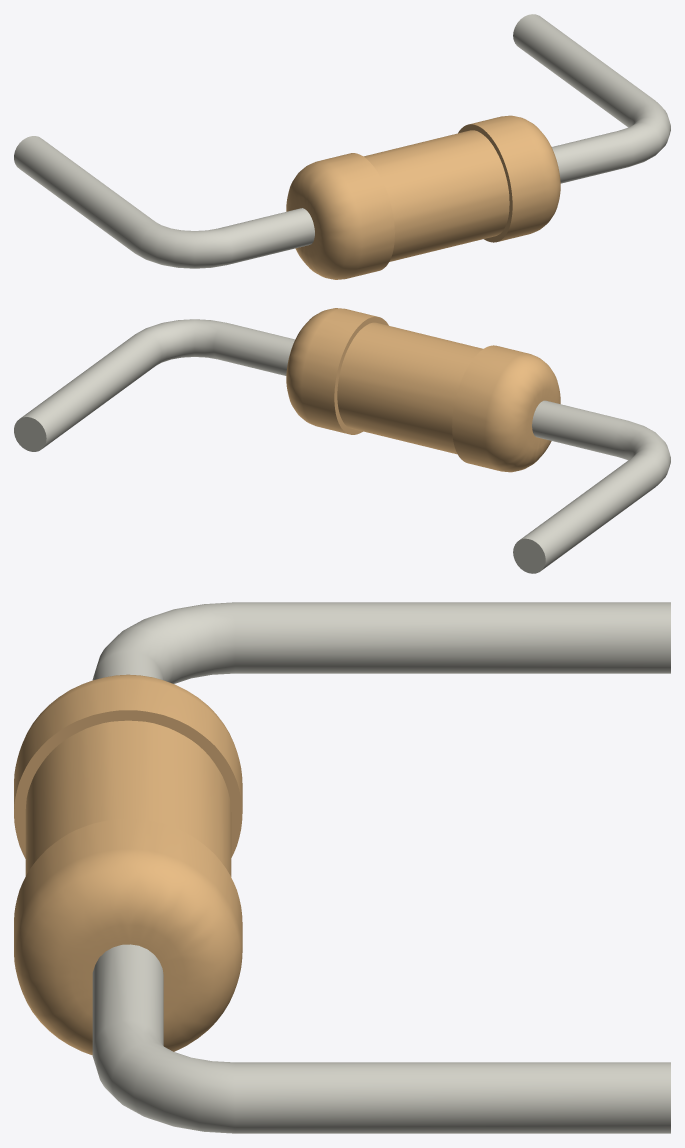
Rendered from r-axial-din0204-l3.6-d1.6-p7.62-h.glb.
3 views of the same model, one above another, from view 1: azimuth 30°, elevation 25°; view 2: azimuth 150°, elevation 25°; view 3: azimuth 270°, elevation 25° (orthographic). The views are drawn at different scales.
Parts seen in each view (by area): view 1: RES-THT-01, PIN-01; view 2: RES-THT-01, PIN-01; view 3: PIN-01, RES-THT-01.
Boxes of the visible parts, x1,y1,x2,y2 form: RES-THT-01: (286, 115, 560, 279); PIN-01: (14, 14, 670, 268); RES-THT-01: (286, 308, 560, 472); PIN-01: (14, 319, 670, 573); PIN-01: (92, 602, 670, 1133); RES-THT-01: (14, 674, 242, 1055).
Bounding box in the file's own units: 8.12 × 1.6 × 4.6.
